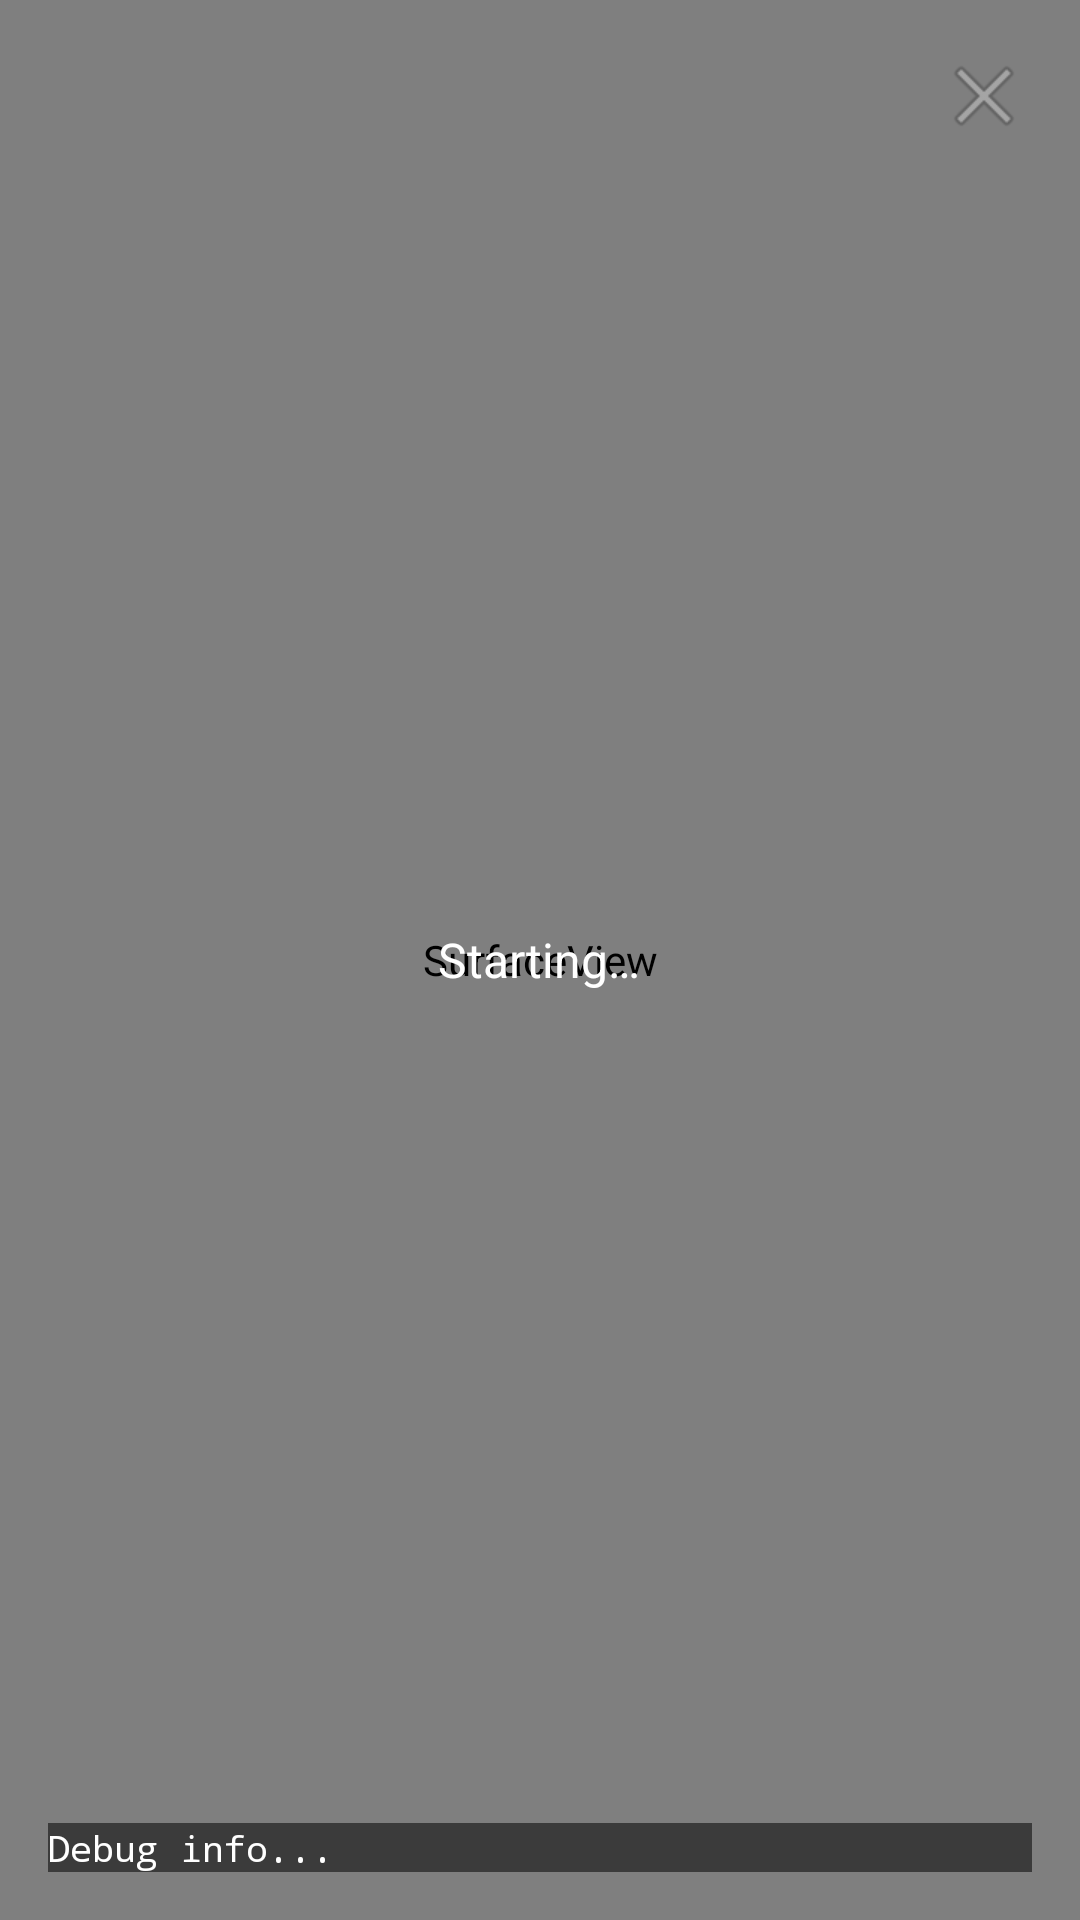

Icon click points for this 1080px×1920px phone screenshot, format [x,y]:
Stop DeX: [984,96]
